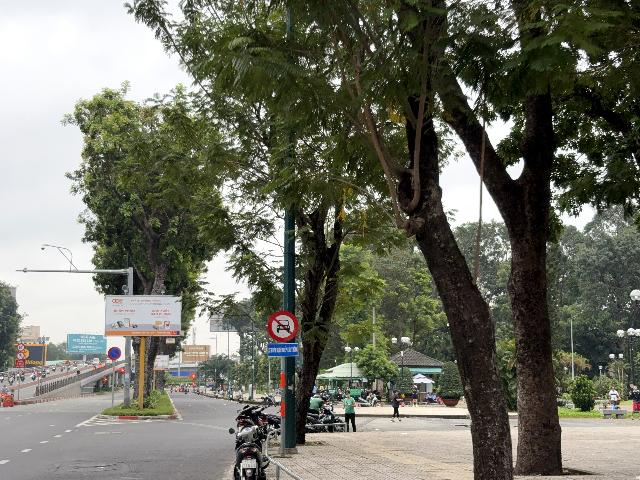cam-o-to: (267, 310, 299, 343)
